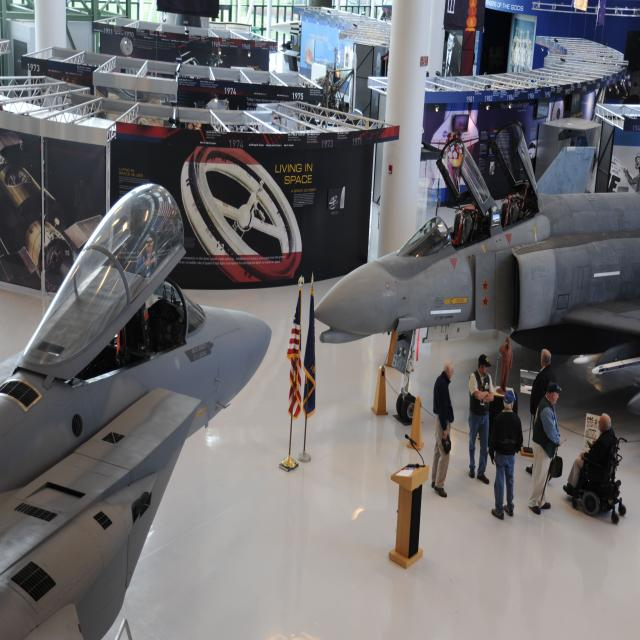MIL_Plane: (0, 183, 272, 640), (313, 120, 640, 422)
